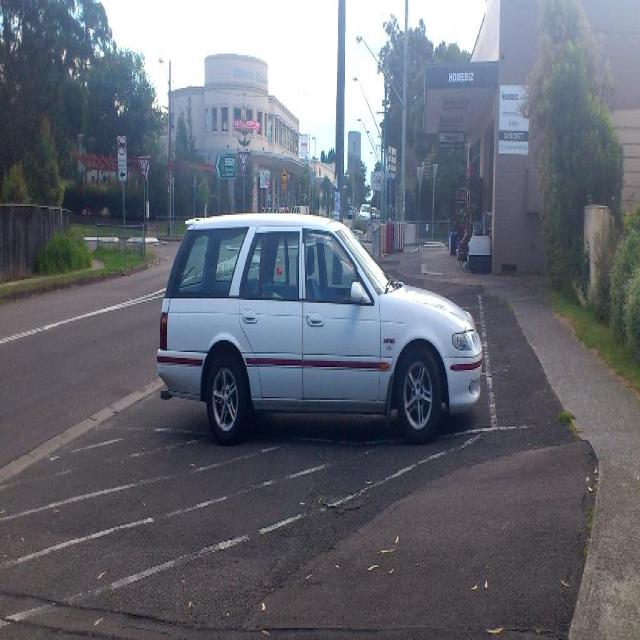car: (151, 197, 490, 436)
